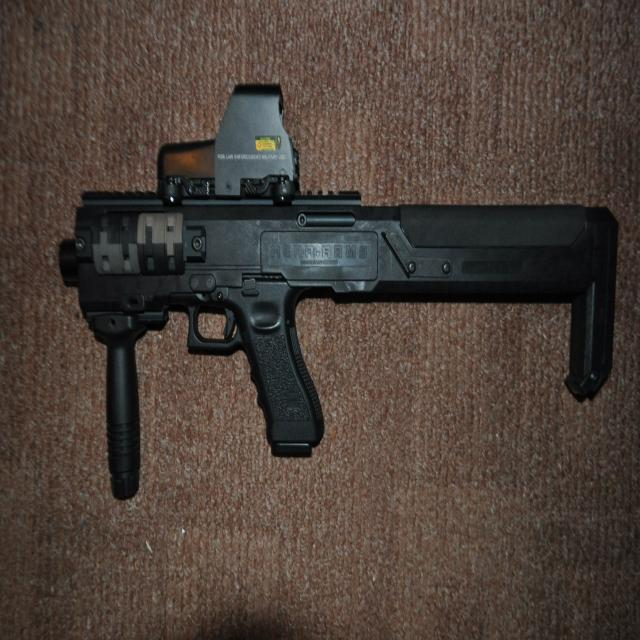firearm: (59, 83, 620, 498)
